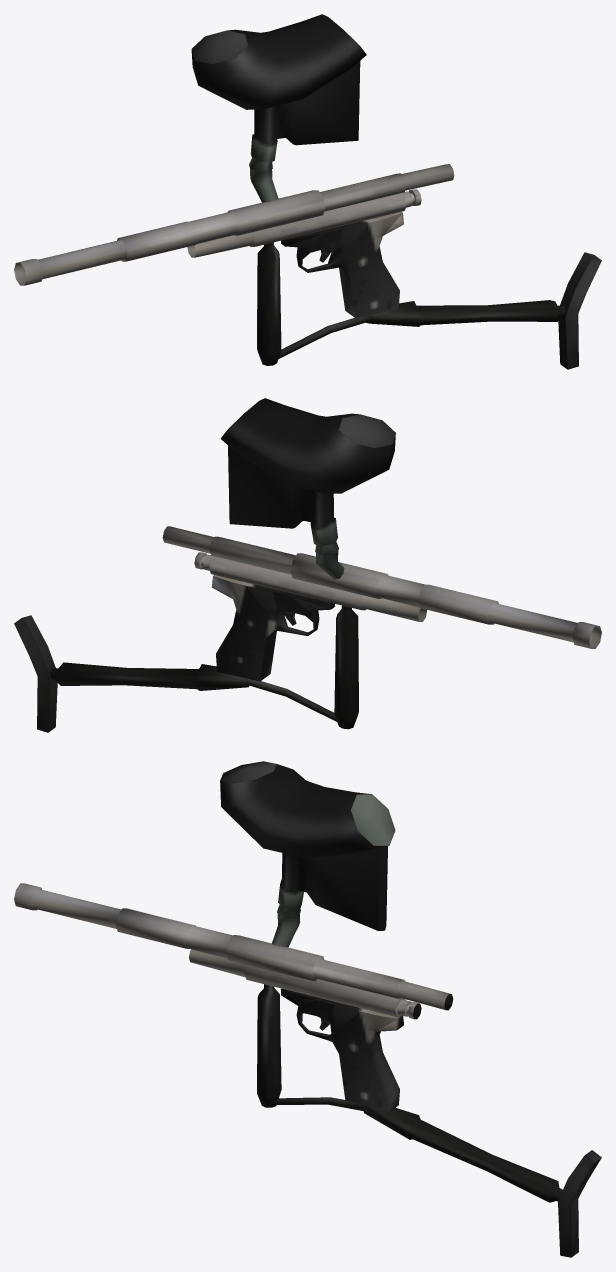
File: pbg.obj
3 renders of one model, top to bottom at view 1: azimuth 30°, elevation 25°; view 2: azimuth 150°, elevation 25°; view 3: azimuth 330°, elevation 25°, orthographic.
Parts seen in each view (by area): view 1: Handle22; view 2: Handle22; view 3: Handle22.
Boxes of the visible parts, box(x1,y1,x2,y2) form: Handle22: box(14, 14, 601, 369); Handle22: box(14, 398, 601, 732); Handle22: box(14, 761, 601, 1257).
Size of the model in its own units: 4.92 by 3.22 by 0.6143.
1 material, 1 textured.
